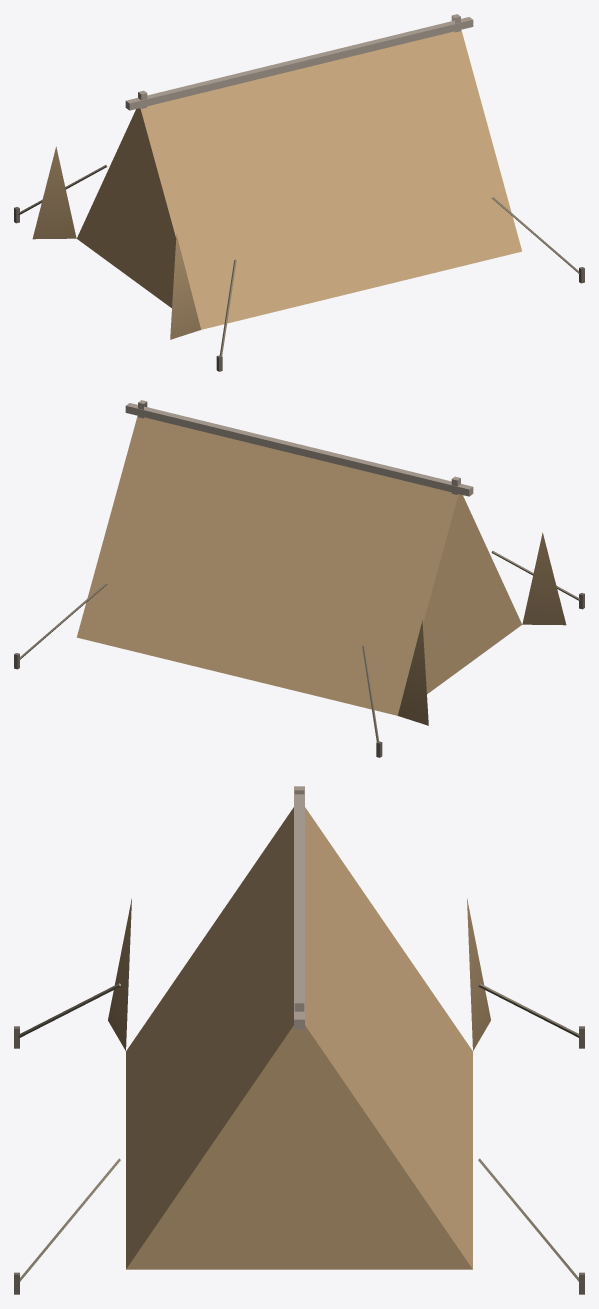
File: tent_2.glb
3 views of the same model, one above another, from view 1: azimuth 30°, elevation 25°; view 2: azimuth 150°, elevation 25°; view 3: azimuth 270°, elevation 25° (orthographic). The views are drawn at different scales.
Visible parts, largest first — view 1: tent_2; view 2: tent_2; view 3: tent_2.
Part boxes in pixels (left/top/right/bottom): tent_2: left=14, top=14, right=584, bottom=371; tent_2: left=14, top=400, right=584, bottom=757; tent_2: left=14, top=786, right=584, bottom=1294.
Bounding box in the file's own units: 5.06 × 2.51 × 4.72.
